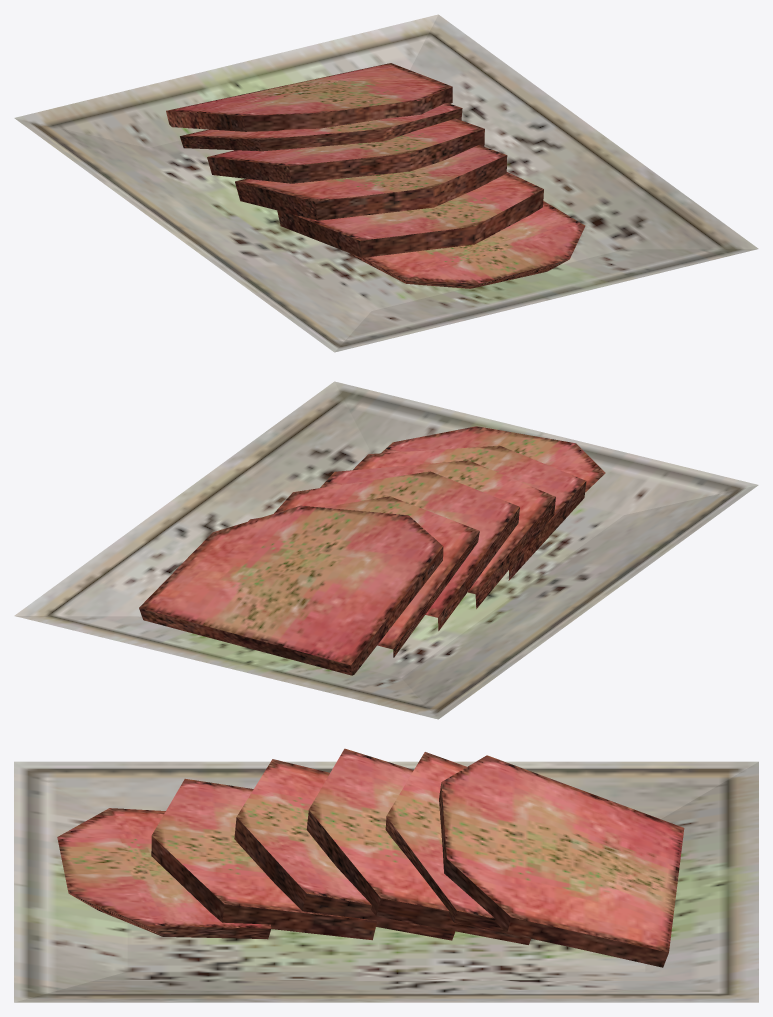
Rendered from edb_dish_trimpian_l1.fbx.
The picture shows the model from 3 angles, top to bottom: view 1: azimuth 30°, elevation 25°; view 2: azimuth 150°, elevation 25°; view 3: azimuth 270°, elevation 25°; orthographic projection. The views are drawn at different scales.
Parts seen in each view (by area): view 1: mesh_node; view 2: mesh_node; view 3: mesh_node.
Boxes of the visible parts, x1,y1,x2,y2 form: mesh_node: (14,14,758,352); mesh_node: (14,381,758,719); mesh_node: (14,748,758,1002).
Bounding box in the file's own units: 0.4064 × 0.079 × 0.5313.
Materials: 1 (1 with a texture image).
